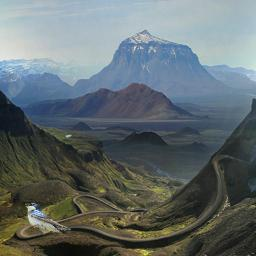Swallow: (25, 203, 71, 238)
